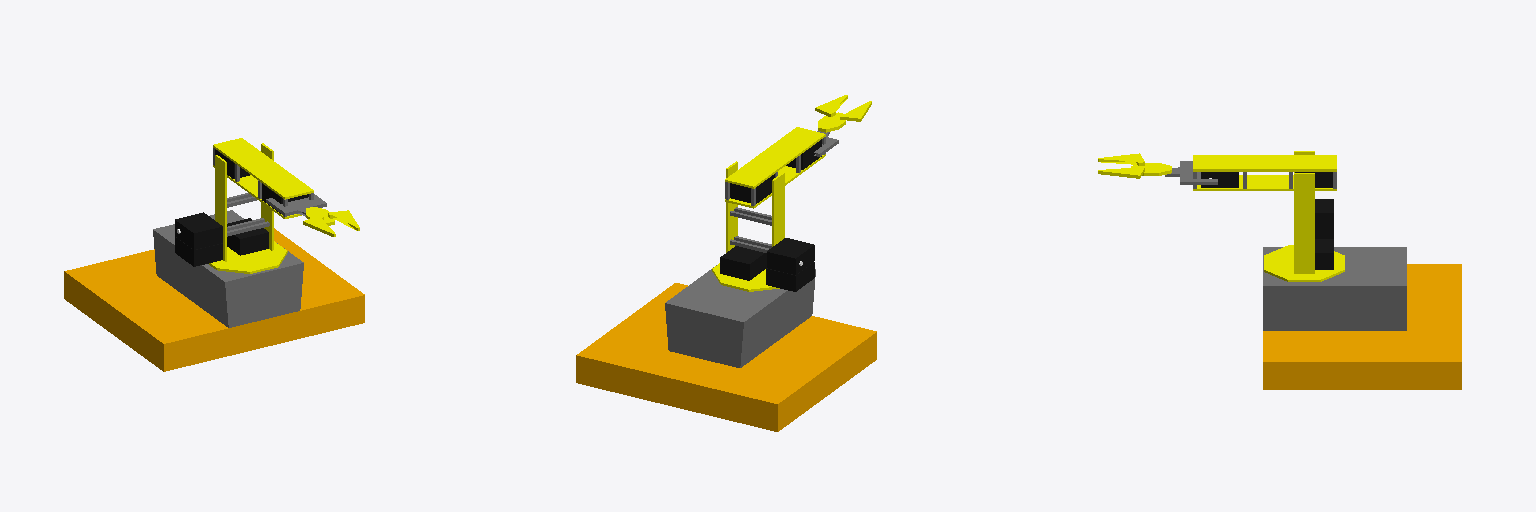
Rendered from Robot.obj.
3 views of the same model, side by side, from view 1: azimuth 30°, elevation 25°; view 2: azimuth 150°, elevation 25°; view 3: azimuth 270°, elevation 25° (orthographic).
Visible parts, largest first — view 1: Base BaseNaranja, Base BaseNegra1, Brazo TapaBrazo1, BaseHexagonal BaseHexagonal, BaseHexagonal CajaServo5, AnteBrazo LadoAntebrazo1, BaseHexagonal CajaServo2, BaseHexagonal CajaServo3, mano metalmano; view 2: Base BaseNaranja, Base BaseNegra1, Brazo TapaBrazo1, BaseHexagonal CajaServo5, BaseHexagonal CajaServo2, AnteBrazo LadoAntebrazo1, BaseHexagonal CajaServo3, BaseHexagonal BaseHexagonal, Brazo CajaServo, AnteBrazo LadoAntebrazo2; view 3: Base BaseNaranja, Base BaseNegra1, Brazo TapaBrazo1, AnteBrazo LadoAntebrazo2, BaseHexagonal BaseHexagonal, Brazo TapaBrazo2, BaseHexagonal CajaServo5, BaseHexagonal CajaServo2, mano metalmano.
Part boxes in pixels (bbox=[...]): Base BaseNaranja: bbox=[64, 228, 364, 371]; Base BaseNegra1: bbox=[153, 210, 303, 327]; Brazo TapaBrazo1: bbox=[213, 138, 313, 199]; BaseHexagonal BaseHexagonal: bbox=[209, 241, 287, 273]; BaseHexagonal CajaServo5: bbox=[175, 212, 222, 249]; AnteBrazo LadoAntebrazo1: bbox=[215, 155, 226, 261]; BaseHexagonal CajaServo2: bbox=[227, 218, 268, 255]; BaseHexagonal CajaServo3: bbox=[175, 237, 222, 266]; mano metalmano: bbox=[266, 194, 326, 216]; Base BaseNaranja: bbox=[576, 283, 876, 431]; Base BaseNegra1: bbox=[665, 265, 815, 367]; Brazo TapaBrazo1: bbox=[725, 127, 825, 188]; BaseHexagonal CajaServo5: bbox=[767, 238, 814, 274]; BaseHexagonal CajaServo2: bbox=[720, 246, 766, 280]; AnteBrazo LadoAntebrazo1: bbox=[772, 173, 784, 246]; BaseHexagonal CajaServo3: bbox=[766, 262, 814, 291]; BaseHexagonal BaseHexagonal: bbox=[712, 263, 779, 291]; Brazo CajaServo: bbox=[730, 174, 774, 203]; AnteBrazo LadoAntebrazo2: bbox=[726, 161, 737, 252]; Base BaseNaranja: bbox=[1263, 264, 1461, 389]; Base BaseNegra1: bbox=[1263, 247, 1406, 330]; Brazo TapaBrazo1: bbox=[1193, 155, 1336, 171]; AnteBrazo LadoAntebrazo2: bbox=[1294, 173, 1314, 273]; BaseHexagonal BaseHexagonal: bbox=[1264, 245, 1344, 281]; Brazo TapaBrazo2: bbox=[1193, 175, 1336, 190]; BaseHexagonal CajaServo5: bbox=[1315, 199, 1333, 229]; BaseHexagonal CajaServo2: bbox=[1315, 239, 1333, 269]; mano metalmano: bbox=[1165, 161, 1217, 184].
Bounding box in the file's own units: 24.2 × 21.54 × 37.84.